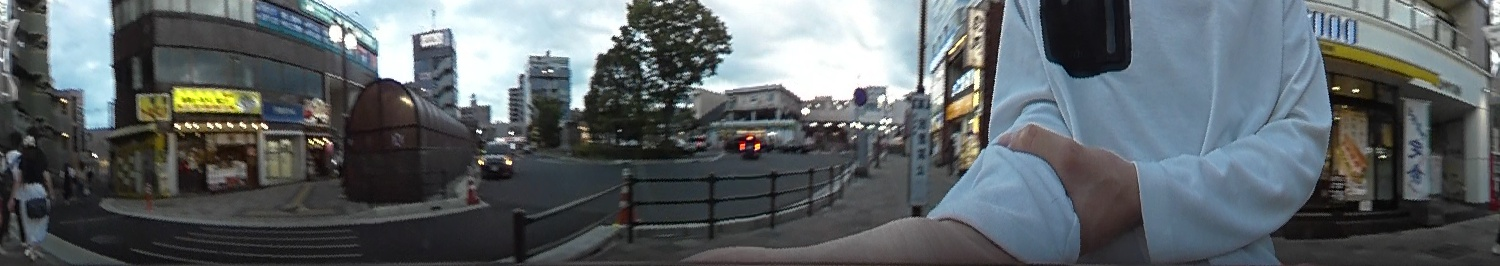difficult_person: (56, 159, 74, 204)
person: (20, 131, 56, 257), (1, 135, 24, 245)
